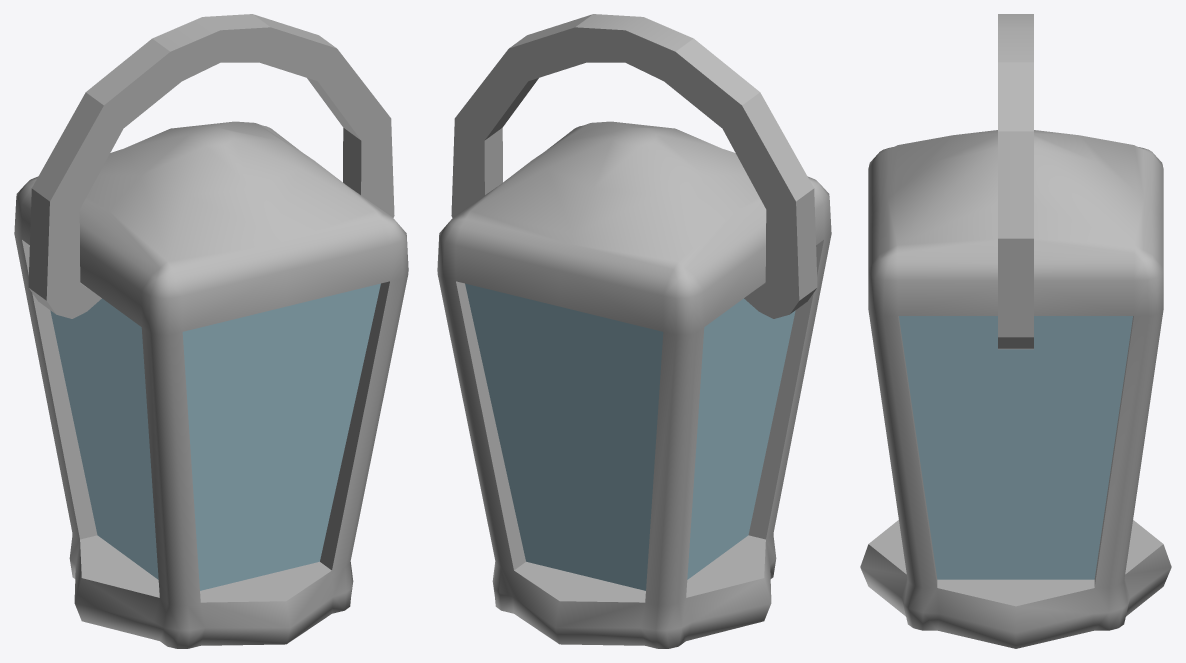
File: Lantern_v1_001.fbx
The picture shows the model from 3 angles, left to right: view 1: azimuth 30°, elevation 25°; view 2: azimuth 150°, elevation 25°; view 3: azimuth 270°, elevation 25°; orthographic projection.
Visible parts, largest first — view 1: Lantern_v1_001; view 2: Lantern_v1_001; view 3: Lantern_v1_001.
Part boxes in pixels (x1=…): Lantern_v1_001: x1=14, y1=14, x2=408, y2=648; Lantern_v1_001: x1=437, y1=14, x2=831, y2=648; Lantern_v1_001: x1=860, y1=14, x2=1171, y2=648.
Bounding box in the file's own units: 36.9 × 57.38 × 29.06.
